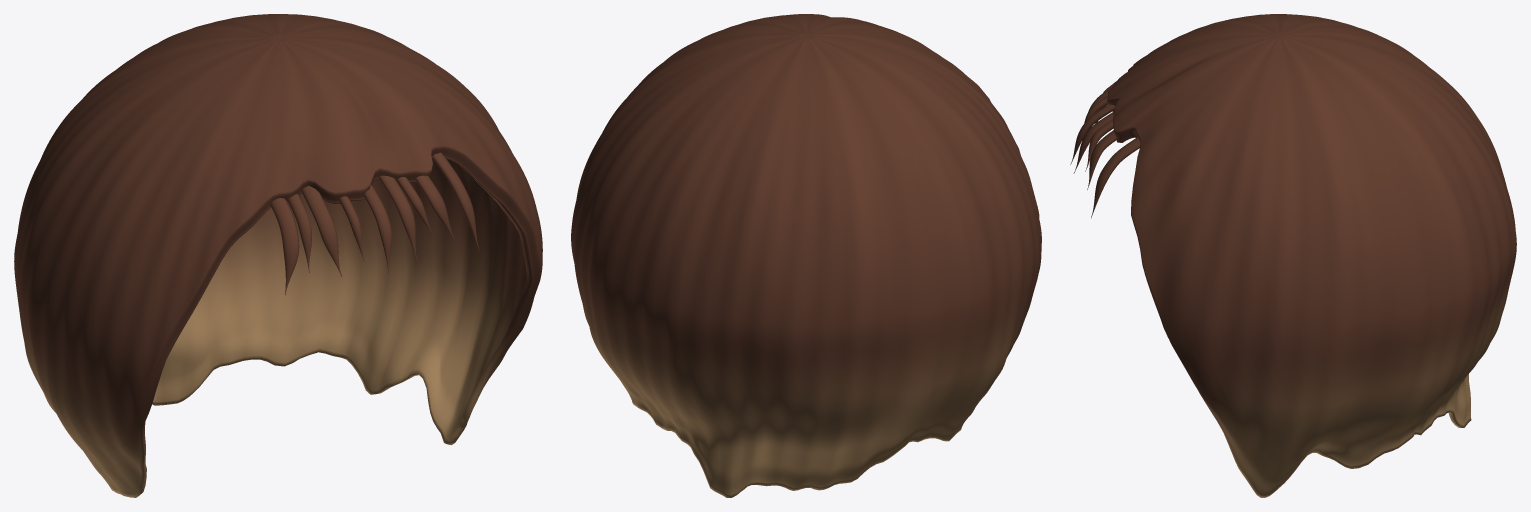
The model's file is side-sweep-pashmina-ombre.glb.
3 views of the same model, side by side, from view 1: azimuth 30°, elevation 25°; view 2: azimuth 150°, elevation 25°; view 3: azimuth 270°, elevation 25° (orthographic). The views are drawn at different scales.
Parts seen in each view (by area): view 1: Hair / layered lob, Fringe / tapered lock 01, Fringe / tapered lock 03, Fringe / tapered lock 09, Fringe / tapered lock 06, Fringe / tapered lock 05, Fringe / tapered lock 02, Fringe / tapered lock 08; view 2: Hair / layered lob; view 3: Hair / layered lob, Fringe / tapered lock 09.
Part boxes in pixels (bbox=[...]): Hair / layered lob: bbox=[14, 14, 542, 497]; Fringe / tapered lock 01: bbox=[270, 198, 299, 295]; Fringe / tapered lock 03: bbox=[302, 185, 341, 276]; Fringe / tapered lock 09: bbox=[432, 152, 479, 250]; Fringe / tapered lock 06: bbox=[379, 175, 417, 260]; Fringe / tapered lock 05: bbox=[364, 184, 391, 274]; Fringe / tapered lock 02: bbox=[287, 194, 311, 272]; Fringe / tapered lock 08: bbox=[415, 175, 454, 239]; Hair / layered lob: bbox=[571, 14, 1041, 497]; Hair / layered lob: bbox=[1107, 14, 1516, 497]; Fringe / tapered lock 09: bbox=[1091, 137, 1140, 218].
Size of the model in its own units: 0.8384 by 0.7657 by 0.7909.
